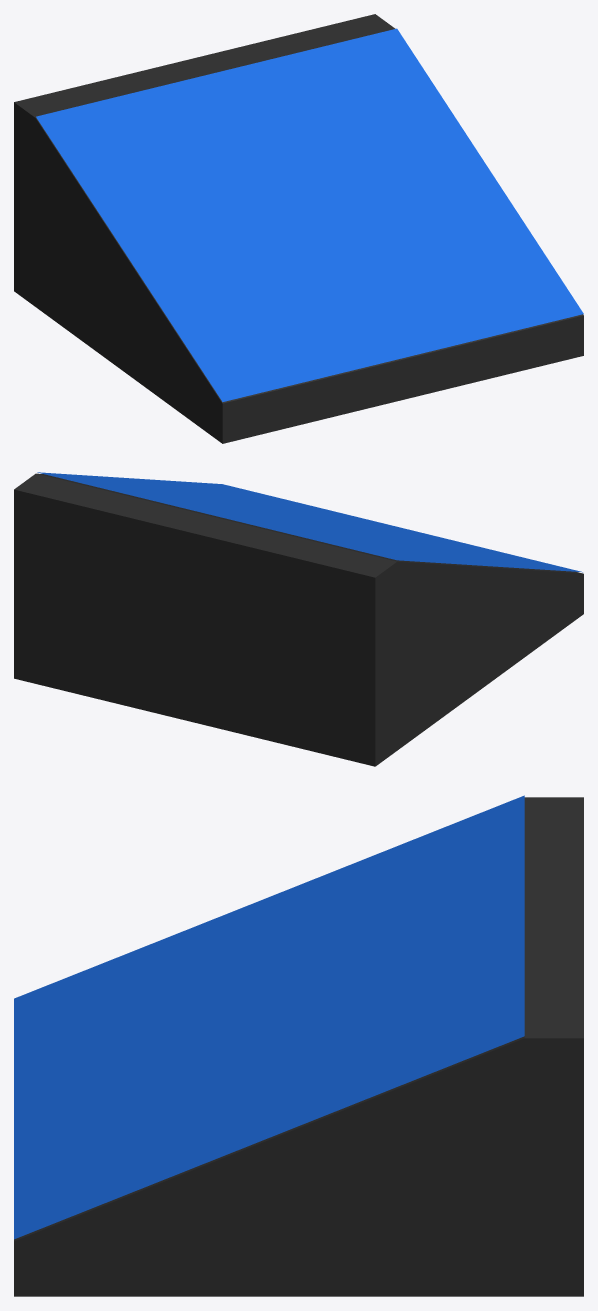
File: healtcare-gateway2.glb
3 renders of one model, top to bottom at view 1: azimuth 30°, elevation 25°; view 2: azimuth 150°, elevation 25°; view 3: azimuth 270°, elevation 25°, orthographic. The views are drawn at different scales.
Parts seen in each view (by area): view 1: screen, body; view 2: body, screen; view 3: screen, body.
Part boxes in pixels (x1=…): screen: x1=36, y1=28, x2=583, y2=401; body: x1=14, y1=14, x2=583, y2=443; body: x1=14, y1=473, x2=583, y2=766; screen: x1=37, y1=472, x2=582, y2=572; screen: x1=14, y1=795, x2=524, y2=1239; body: x1=14, y1=797, x2=583, y2=1296.
Size of the model in its own units: 2 by 1.01 by 2.
